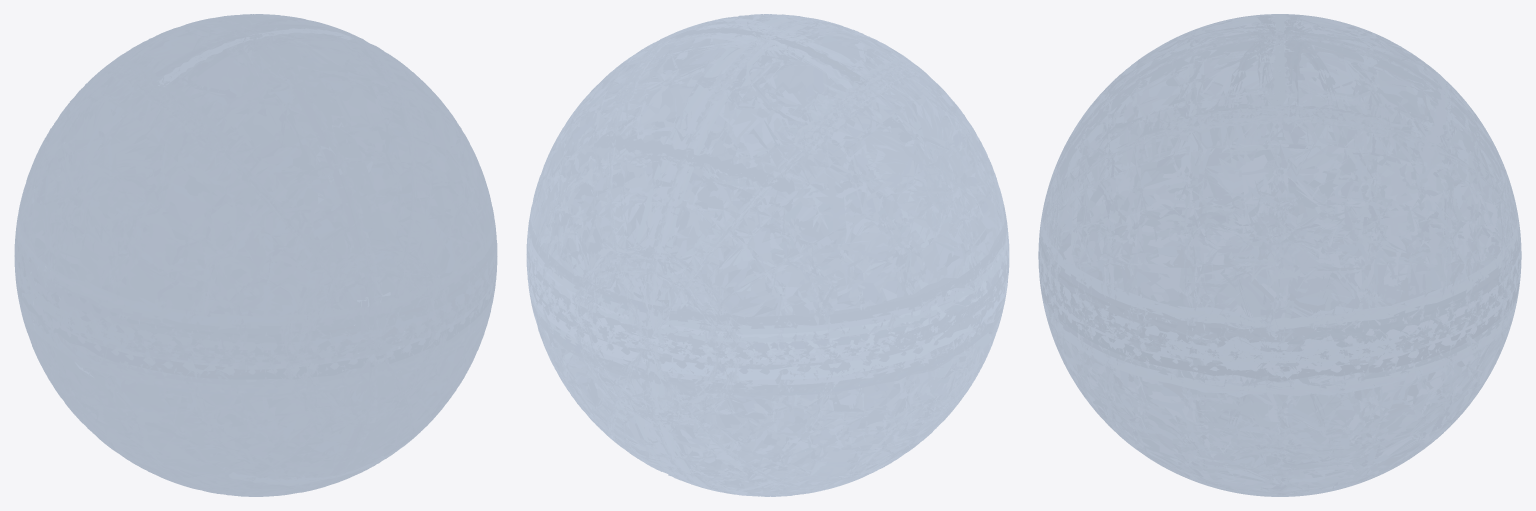
The model's file is row_5_1.glb.
3 views of the same model, side by side, from view 1: azimuth 30°, elevation 25°; view 2: azimuth 150°, elevation 25°; view 3: azimuth 270°, elevation 25° (orthographic).
Parts seen in each view (by area): view 1: row_5_1; view 2: row_5_1; view 3: row_5_1.
Boxes of the visible parts, x1=… form: row_5_1: x1=14, y1=14, x2=497, y2=496; row_5_1: x1=526, y1=14, x2=1009, y2=496; row_5_1: x1=1038, y1=14, x2=1521, y2=496.
Size of the model in its own units: 2 by 2 by 2.
